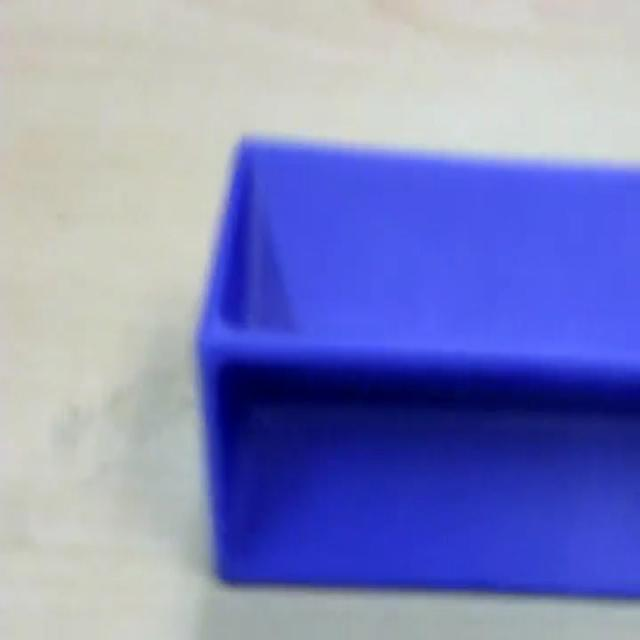blue_block: (194, 131, 638, 598)
